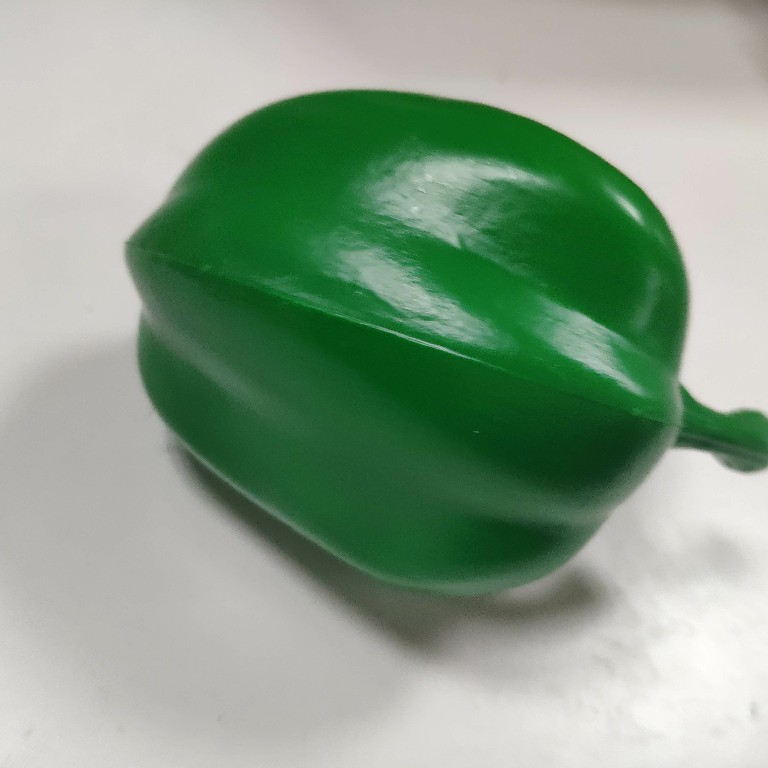fruit_pepper: (116, 78, 768, 599)
